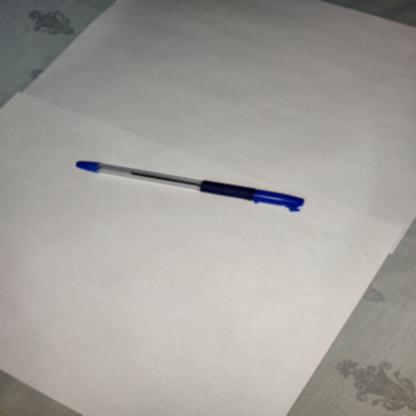pen: (71, 146, 304, 220)
